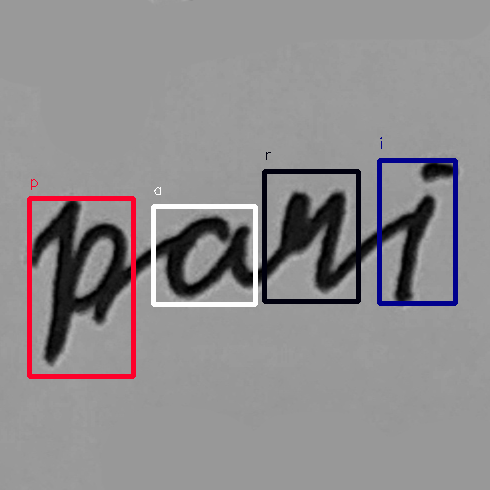a: (159, 210, 253, 304)
i: (384, 157, 461, 307)
p: (35, 193, 135, 369)
r: (270, 184, 356, 295)
